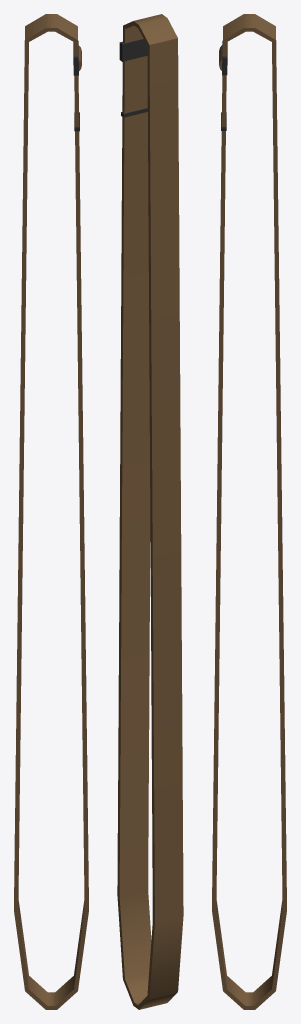
File: leash5.fbx
3 views of the same model, side by side, from view 1: azimuth 90°, elevation 25°; view 2: azimuth 210°, elevation 25°; view 3: azimuth 270°, elevation 25° (orthographic).
Parts seen in each view (by area): view 1: Cylinder.023; view 2: Cylinder.023; view 3: Cylinder.023.
Boxes of the visible parts, box(x1,y1,x2,y2) form: Cylinder.023: box(14, 14, 88, 1009); Cylinder.023: box(117, 14, 183, 1009); Cylinder.023: box(212, 14, 286, 1009).
Bounding box in the file's own units: 2.18 × 59.14 × 4.09.
1 material, 1 textured.
